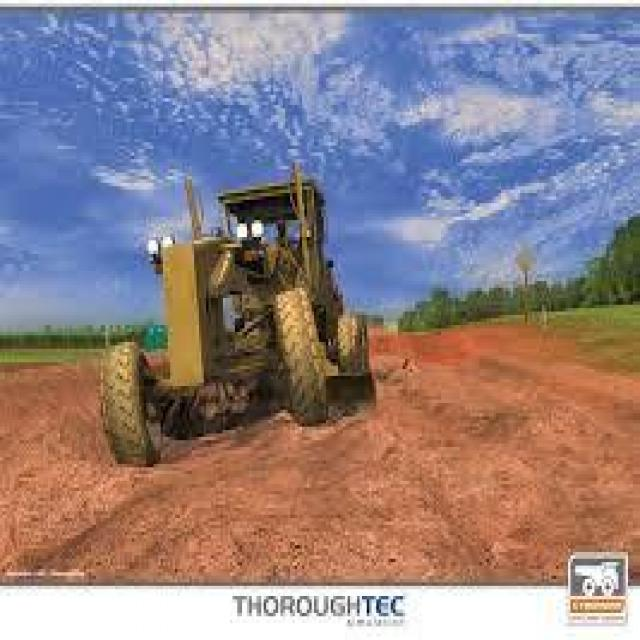Grader: (65, 159, 410, 491)
